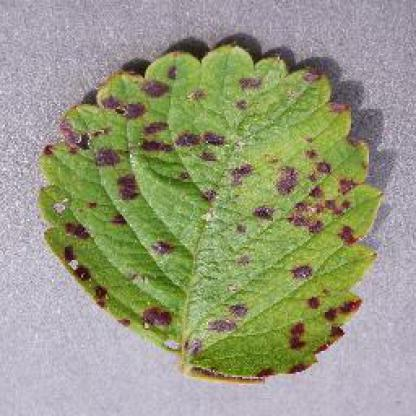leaf scorch: (26, 23, 392, 392)
